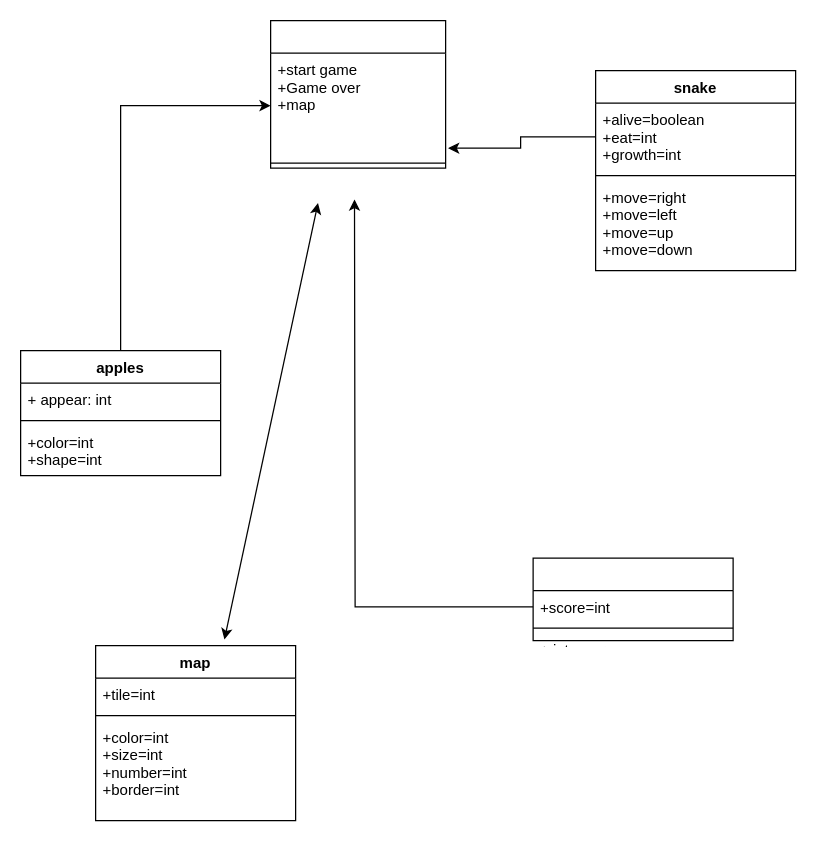
Image size: 816x841. Some labels were removed from this diagram. The box of each missing label's shape, as (x1, y1, x2, y2) in pixels:
points: (532, 557, 733, 641)
Snake game: (269, 19, 446, 168)
